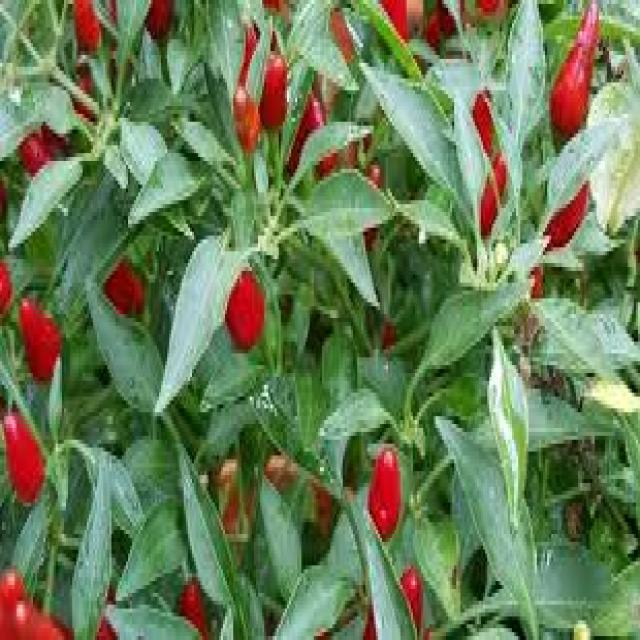sehat: (431, 415, 543, 614), (150, 237, 237, 421), (413, 273, 526, 371), (66, 455, 115, 640)
